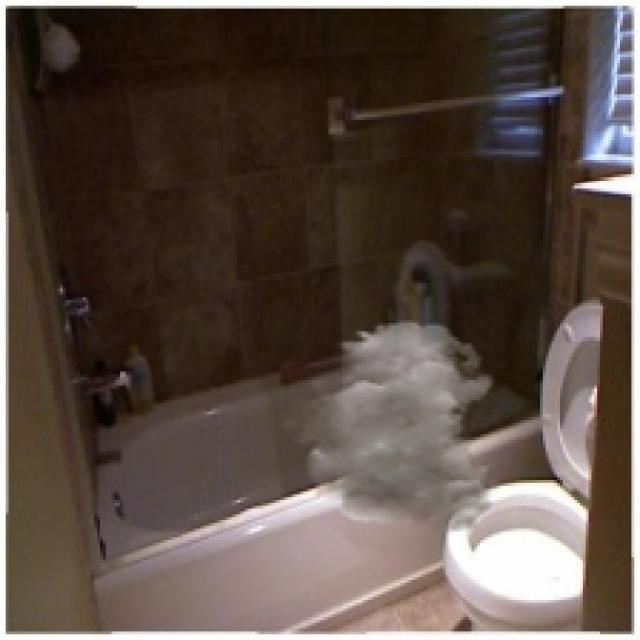smoke: (280, 320, 500, 534)
